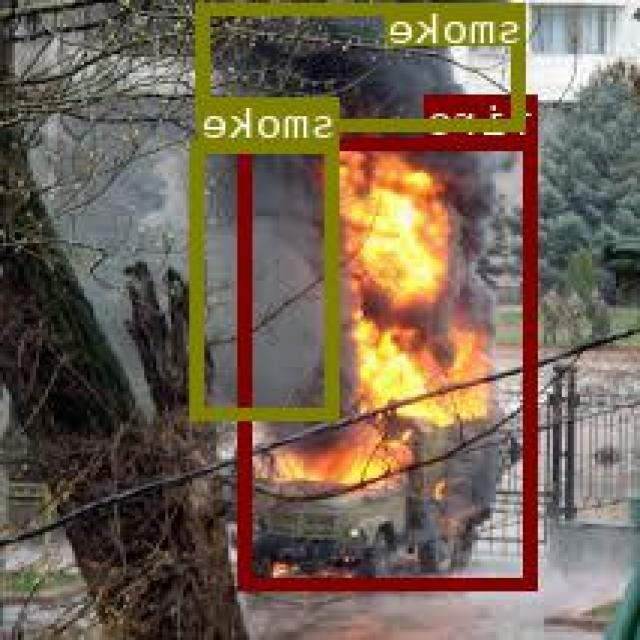fire: (243, 137, 540, 587)
smoke: (198, 2, 526, 128), (194, 140, 341, 417)
